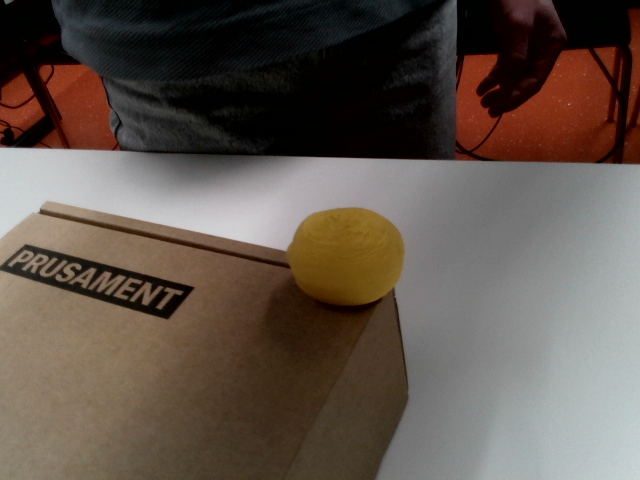lemon: (286, 207, 404, 305)
